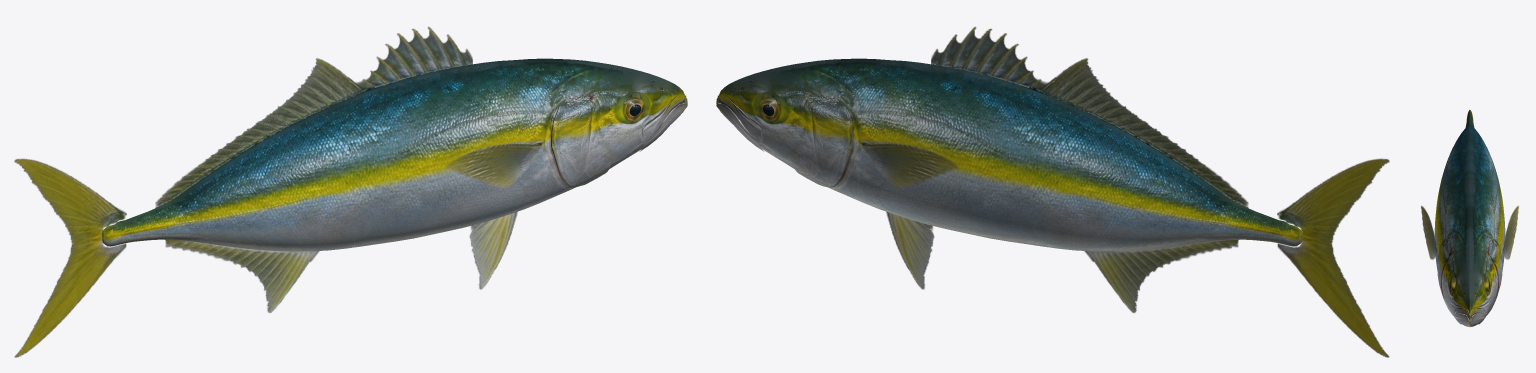
Rendered from hiramasa.glb.
3 views of the same model, side by side, from view 1: azimuth 30°, elevation 25°; view 2: azimuth 150°, elevation 25°; view 3: azimuth 270°, elevation 25° (orthographic). The views are drawn at different scales.
Visible parts, largest first — view 1: hiramasa; view 2: hiramasa; view 3: hiramasa.
Part boxes in pixels (x1=…): hiramasa: x1=14, y1=26, x2=687, y2=357; hiramasa: x1=716, y1=26, x2=1389, y2=357; hiramasa: x1=1421, y1=110, x2=1518, y2=326.
Bounding box in the file's own units: 0.9014 × 0.3554 × 0.1705.
Materials: 1 (1 with a texture image).
